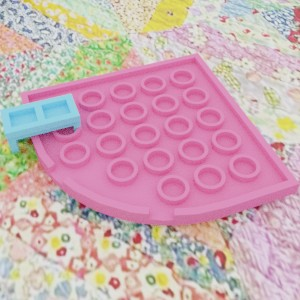lego: (19, 52, 300, 225), (0, 93, 82, 153)
